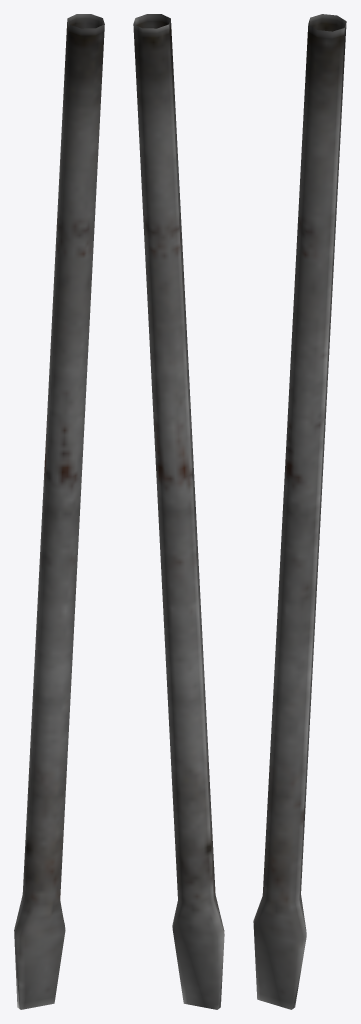
The model's file is Screwdriver_L_Shaft_low_1.obj.
3 renders of one model, left to right at view 1: azimuth 30°, elevation 25°; view 2: azimuth 150°, elevation 25°; view 3: azimuth 330°, elevation 25°, orthographic. The views are drawn at different scales.
Size of the model in its own units: 0.0116 by 0.122 by 0.00442.
Materials: 1 (1 with a texture image).
